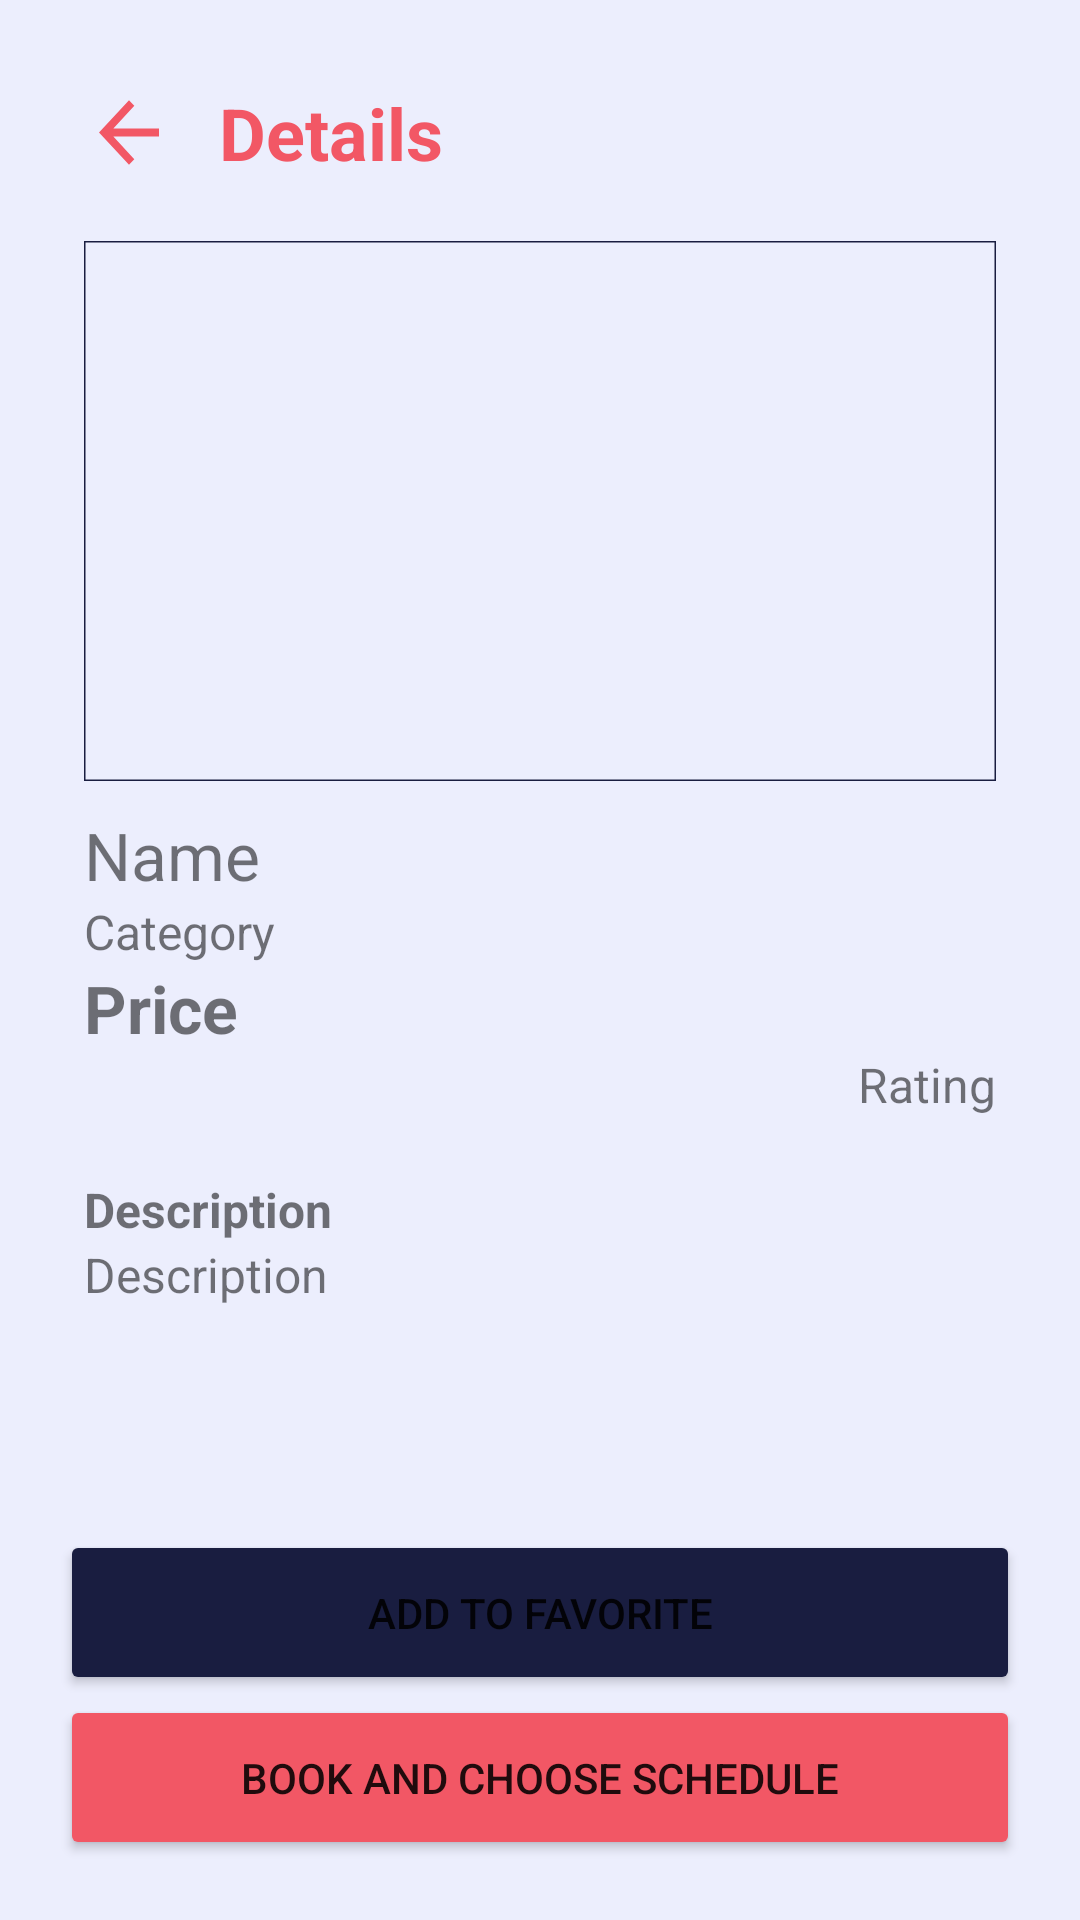

Icons on this 1080*1920 Android screen, each with the point to tap as [x,y]:
arrow back: [129,132]
